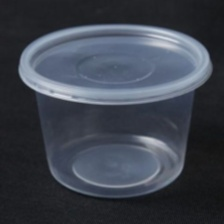plastic_box: (12, 15, 218, 204)
